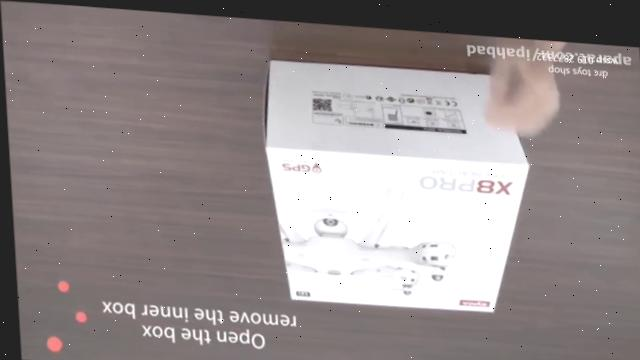drone: (272, 178, 479, 297)
